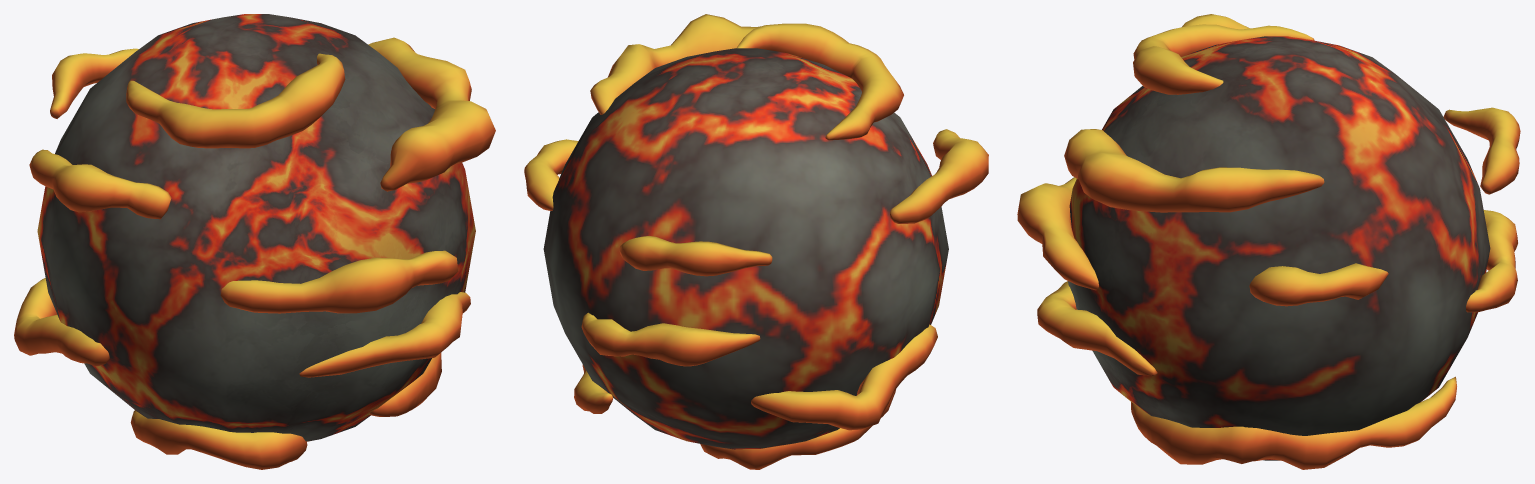
File: Planet_MagmaStorm.fbx
The picture shows the model from 3 angles, left to right: view 1: azimuth 30°, elevation 25°; view 2: azimuth 150°, elevation 25°; view 3: azimuth 270°, elevation 25°; orthographic projection. The views are drawn at different scales.
Visible parts, largest first — view 1: Planet_MagmaStorm, Planet_MagmaStorm_Clouds; view 2: Planet_MagmaStorm, Planet_MagmaStorm_Clouds; view 3: Planet_MagmaStorm, Planet_MagmaStorm_Clouds.
Boxes of the visible parts, x1,y1,x2,y2 form: Planet_MagmaStorm: (37, 14, 475, 441); Planet_MagmaStorm_Clouds: (14, 37, 495, 469); Planet_MagmaStorm: (543, 48, 948, 449); Planet_MagmaStorm_Clouds: (524, 14, 988, 469); Planet_MagmaStorm: (1068, 36, 1490, 460); Planet_MagmaStorm_Clouds: (1017, 14, 1520, 469).
Size of the model in its own units: 233 by 208 by 235.
